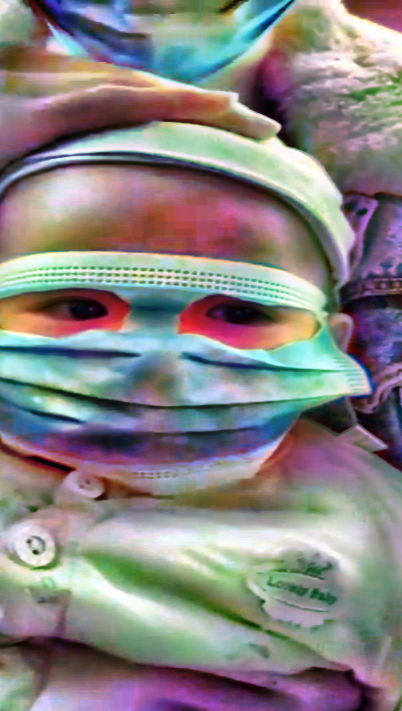mask_weared_incorrect: (1, 134, 365, 475)
